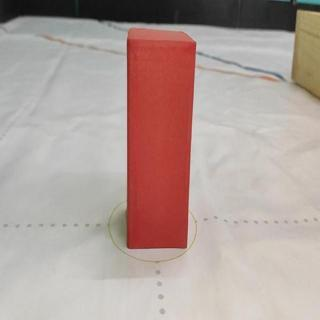redbox: (125, 26, 196, 248)
